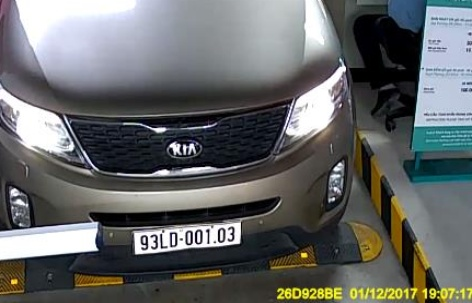plate: (132, 223, 242, 253)
